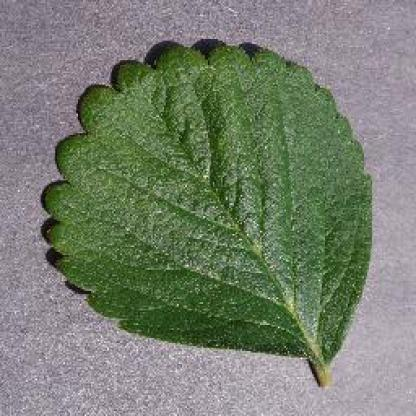healthy: (31, 23, 383, 393)
